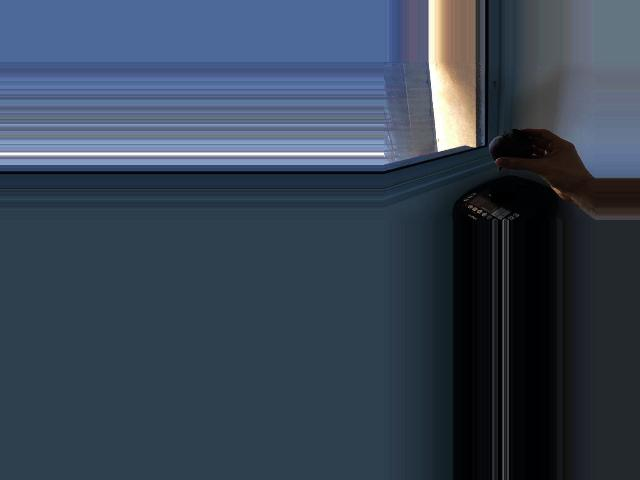beet: (488, 129, 537, 172)
